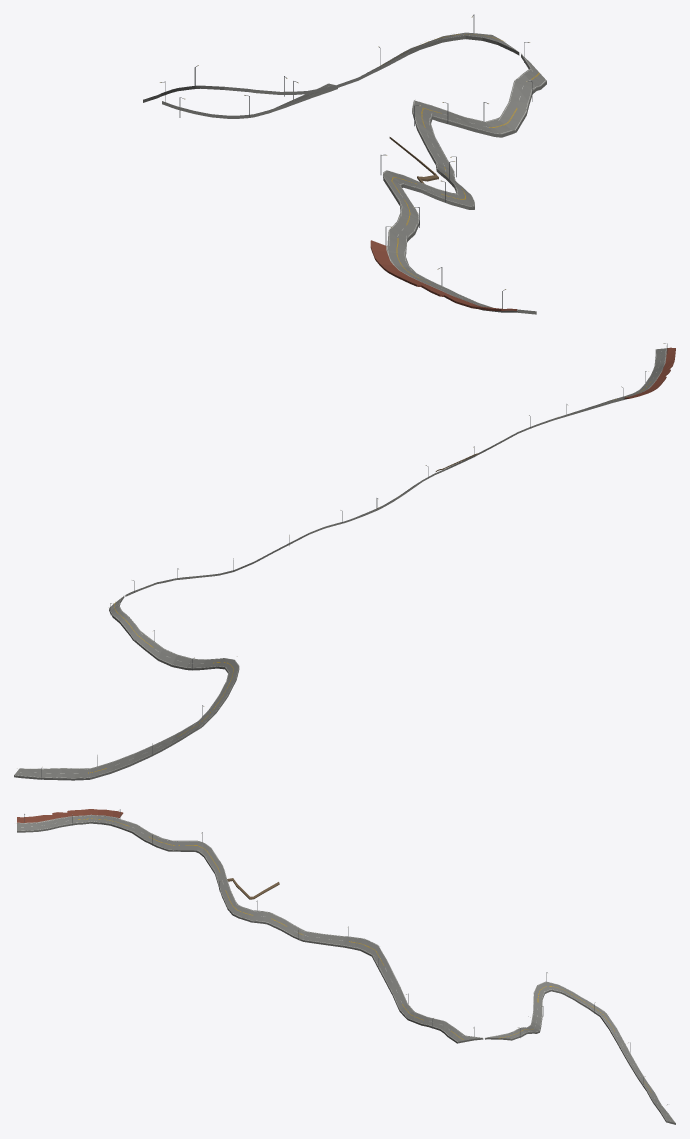
3 views of the same model, one above another, from view 1: azimuth 30°, elevation 25°; view 2: azimuth 150°, elevation 25°; view 3: azimuth 270°, elevation 25° (orthographic). The views are drawn at different scales.
Bounding box in the file's own units: 204 × 143 × 440.
